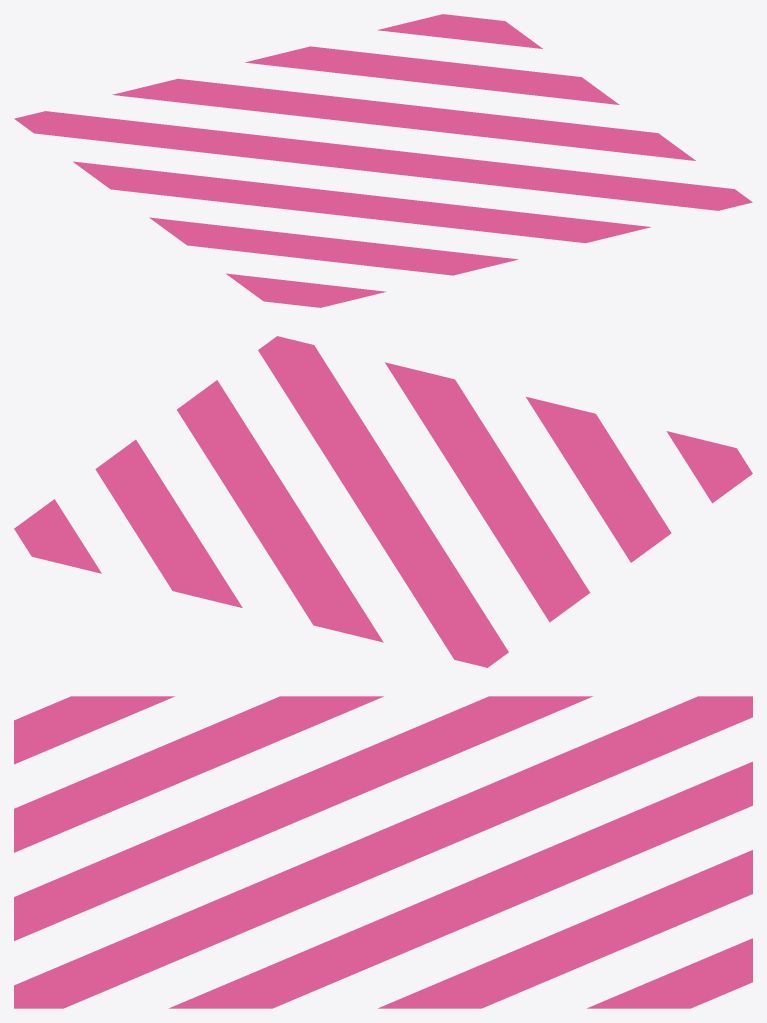
File: Button_PinkDiagonalDown.glb
The picture shows the model from 3 angles, top to bottom: view 1: azimuth 30°, elevation 25°; view 2: azimuth 150°, elevation 25°; view 3: azimuth 270°, elevation 25°; orthographic projection. The views are drawn at different scales.
Parts seen in each view (by area): view 1: indicator-special-lines.003; view 2: indicator-special-lines.003; view 3: indicator-special-lines.003.
Boxes of the visible parts, bbox=[...] form: indicator-special-lines.003: bbox=[14, 14, 752, 307]; indicator-special-lines.003: bbox=[14, 336, 752, 667]; indicator-special-lines.003: bbox=[14, 696, 752, 1008].
Bounding box in the file's own units: 1 × 0 × 1.
